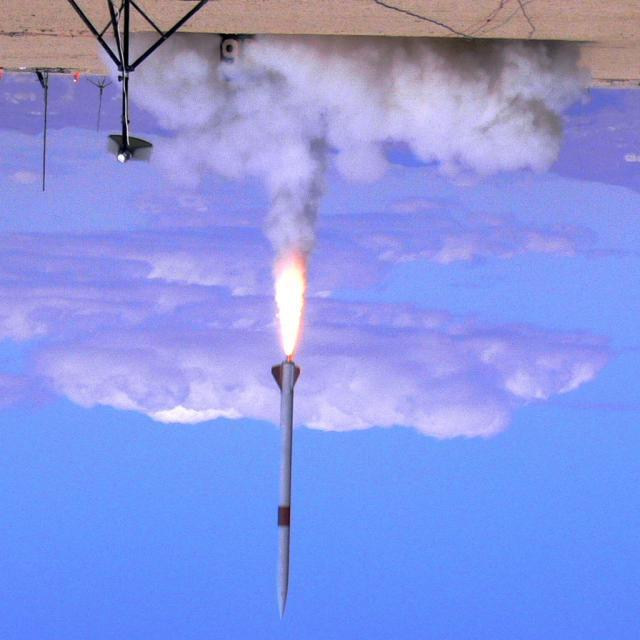missile: (274, 356, 302, 619)
